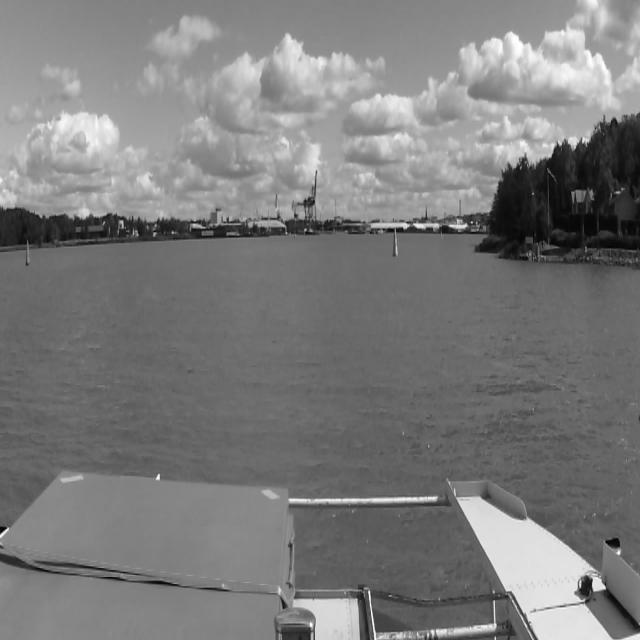buoy: (392, 224, 399, 260), (24, 236, 30, 268)
